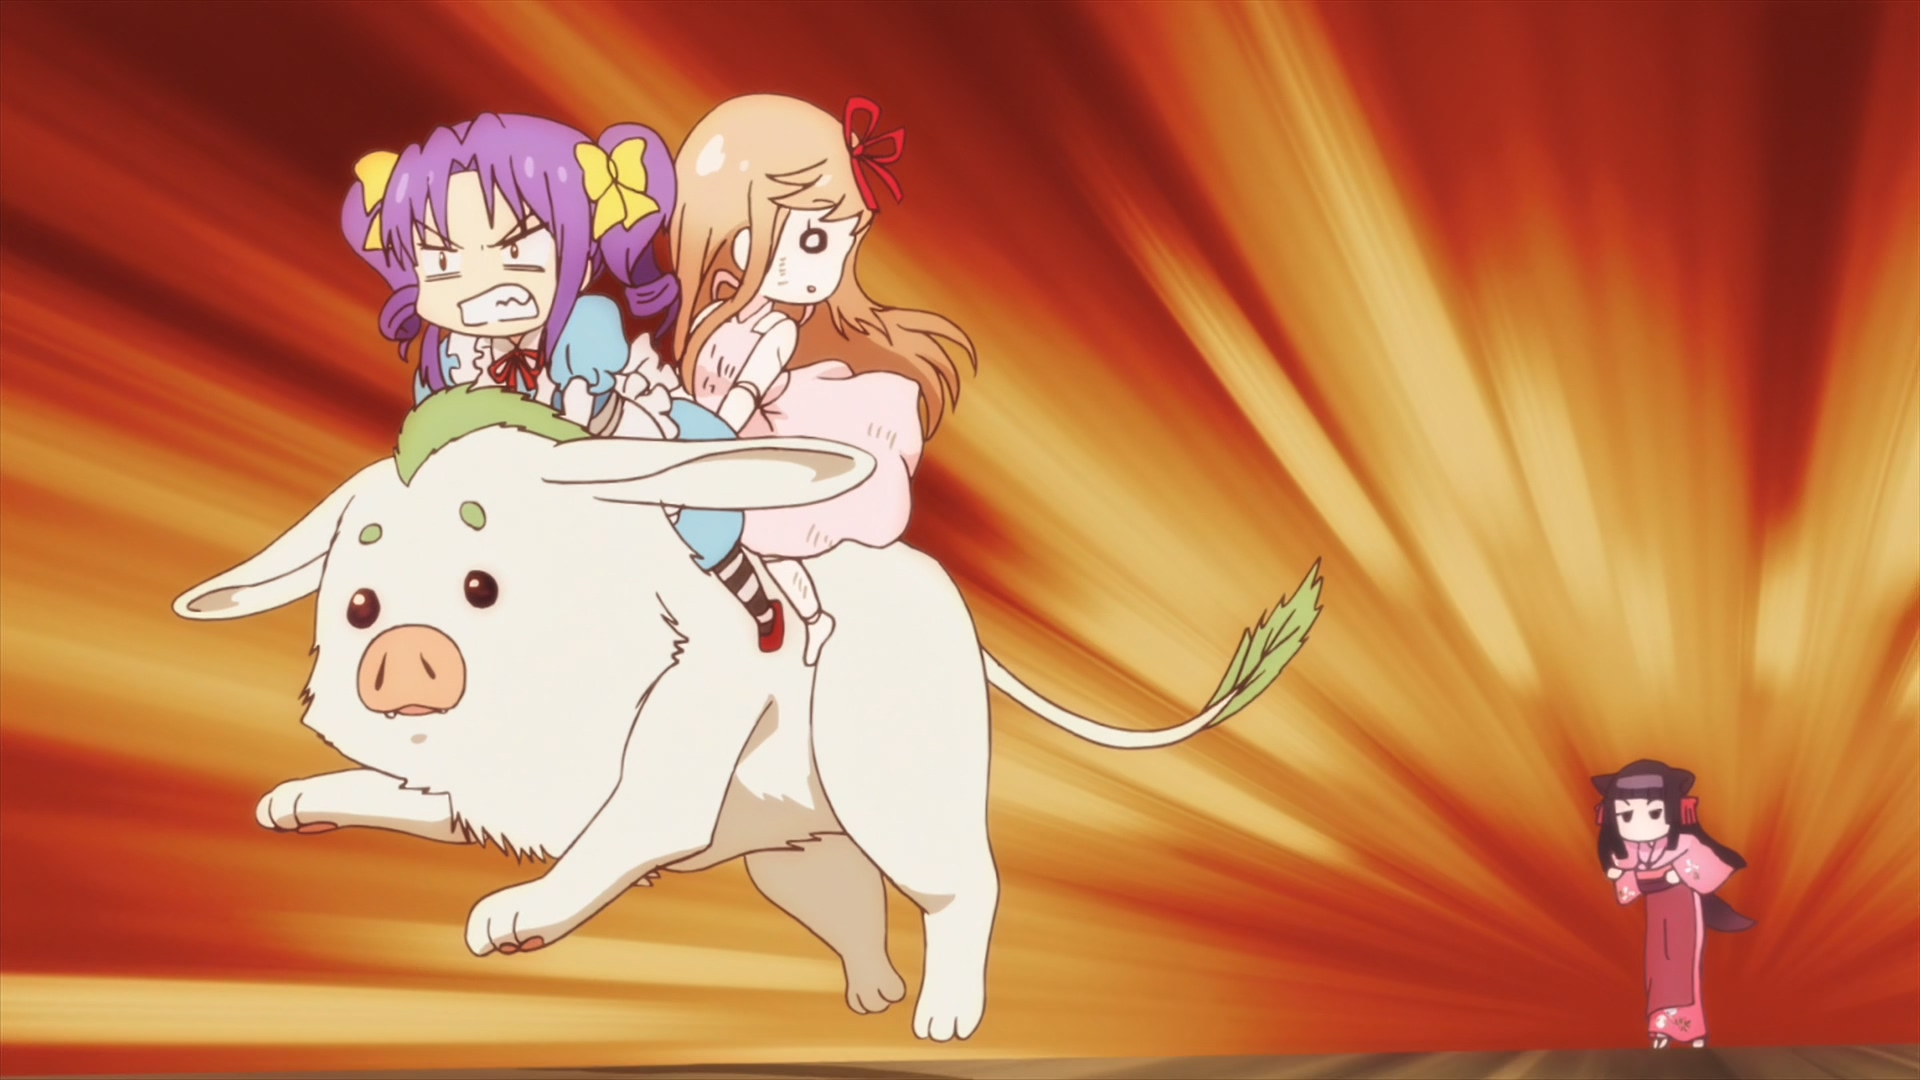其他: (673, 94, 978, 665)
樱: (1594, 761, 1760, 1052)
瓜之介: (171, 378, 1323, 1040)
阿菊: (342, 111, 787, 651)
